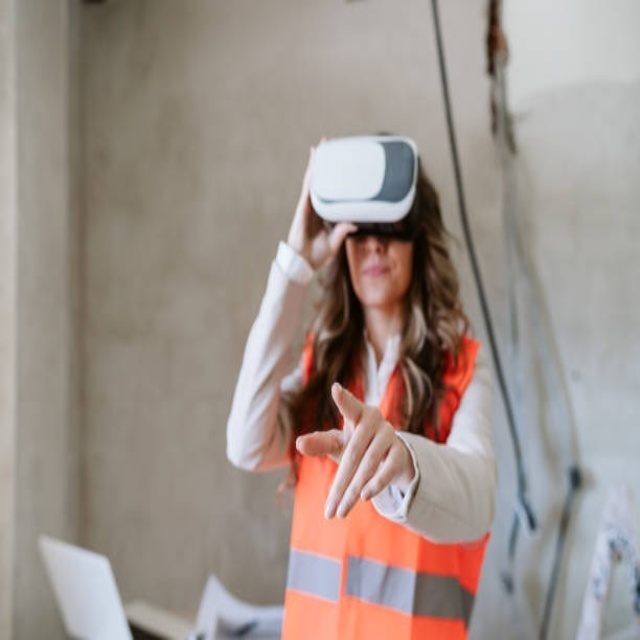Sin_guantes: (294, 379, 411, 520), (288, 142, 357, 272)
Sin_mascara: (353, 259, 394, 293)
